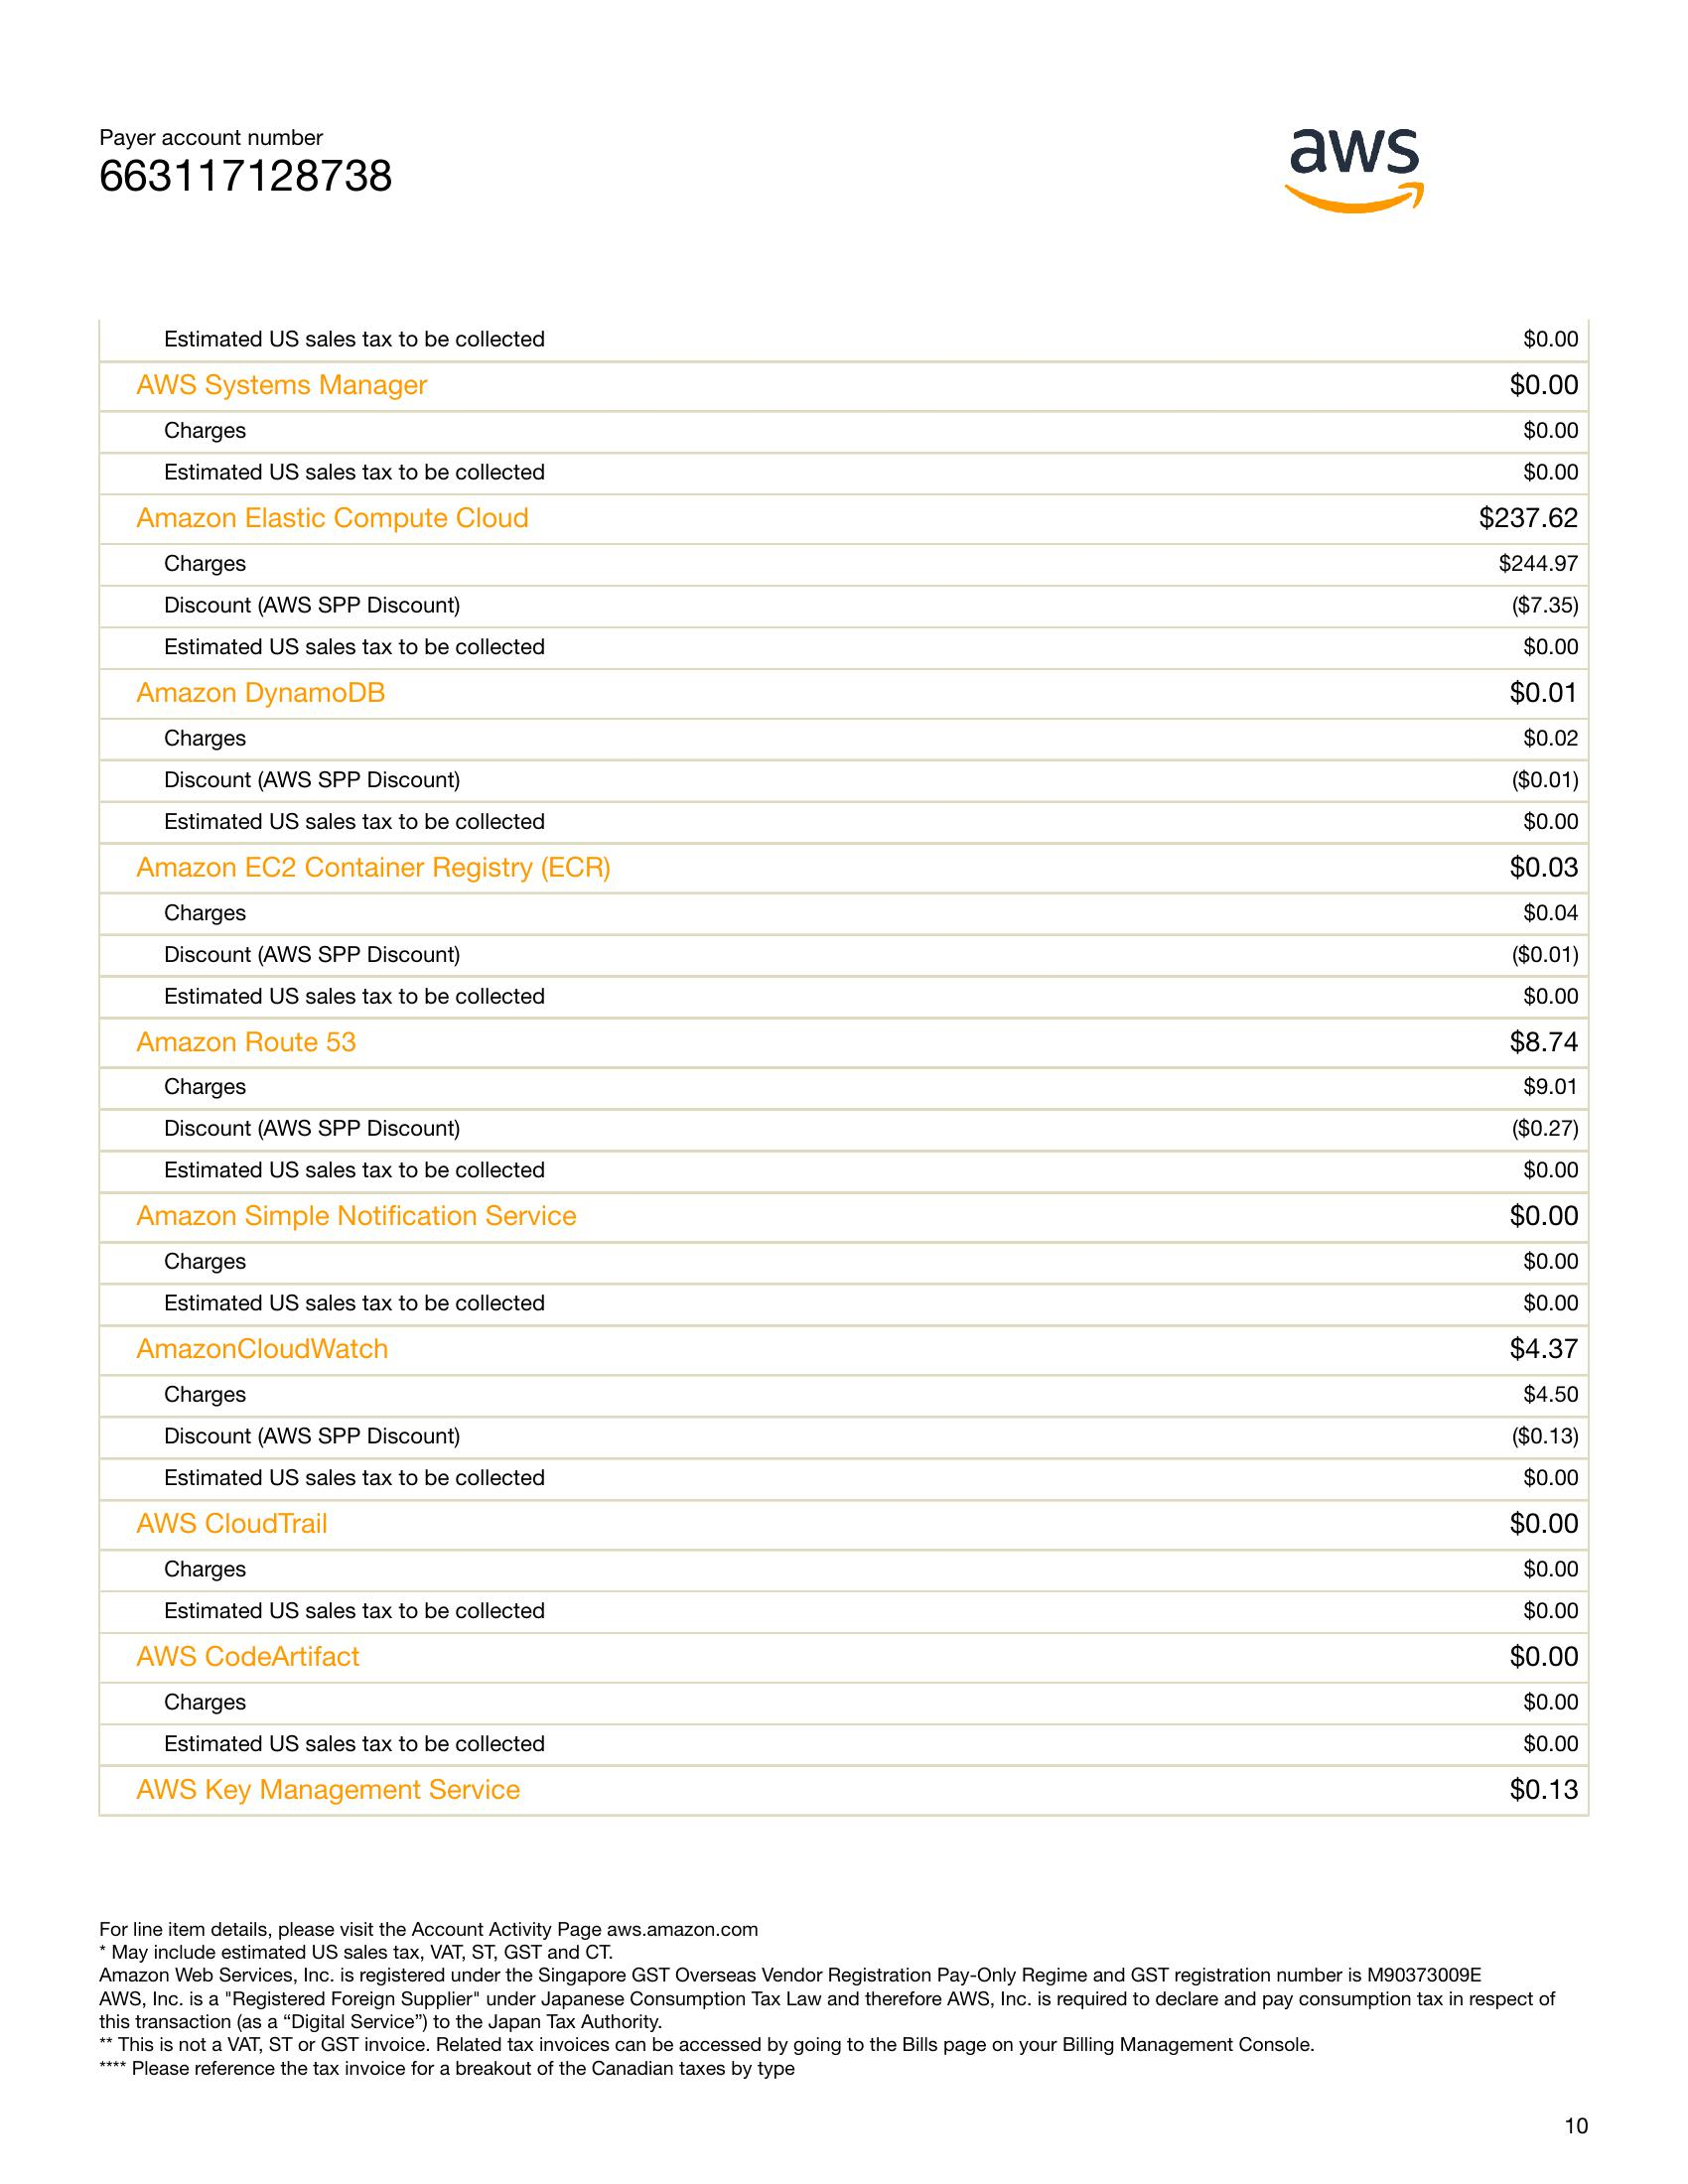table: (83, 300, 1631, 1842)
